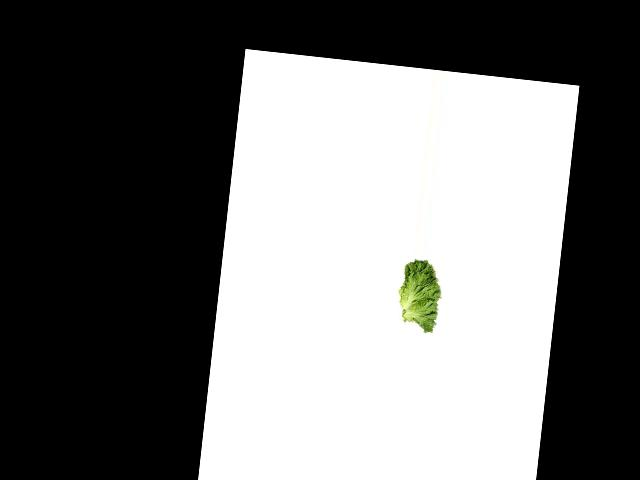lettuce: (392, 256, 450, 334)
